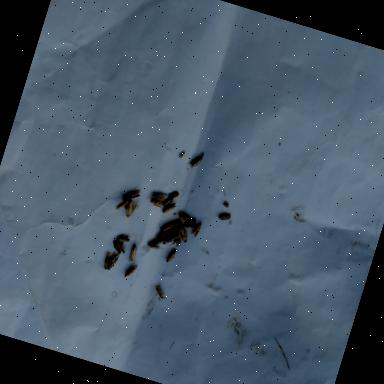pbw: (124, 232, 142, 262), (125, 198, 142, 221), (175, 222, 191, 244), (190, 219, 206, 239), (113, 194, 130, 212), (125, 184, 142, 201), (122, 262, 138, 280), (167, 231, 183, 249), (162, 200, 180, 216), (98, 250, 112, 270), (151, 284, 166, 302), (144, 242, 163, 256), (106, 252, 119, 272), (164, 246, 178, 264), (188, 154, 203, 170), (155, 226, 170, 241), (112, 240, 128, 254), (148, 197, 164, 211), (182, 216, 198, 229), (154, 233, 168, 247), (115, 231, 130, 244), (168, 218, 182, 231), (217, 210, 232, 222), (124, 197, 134, 215), (174, 211, 190, 222), (162, 196, 174, 208), (168, 188, 180, 200), (150, 192, 164, 202), (184, 221, 196, 230), (178, 150, 186, 159)
